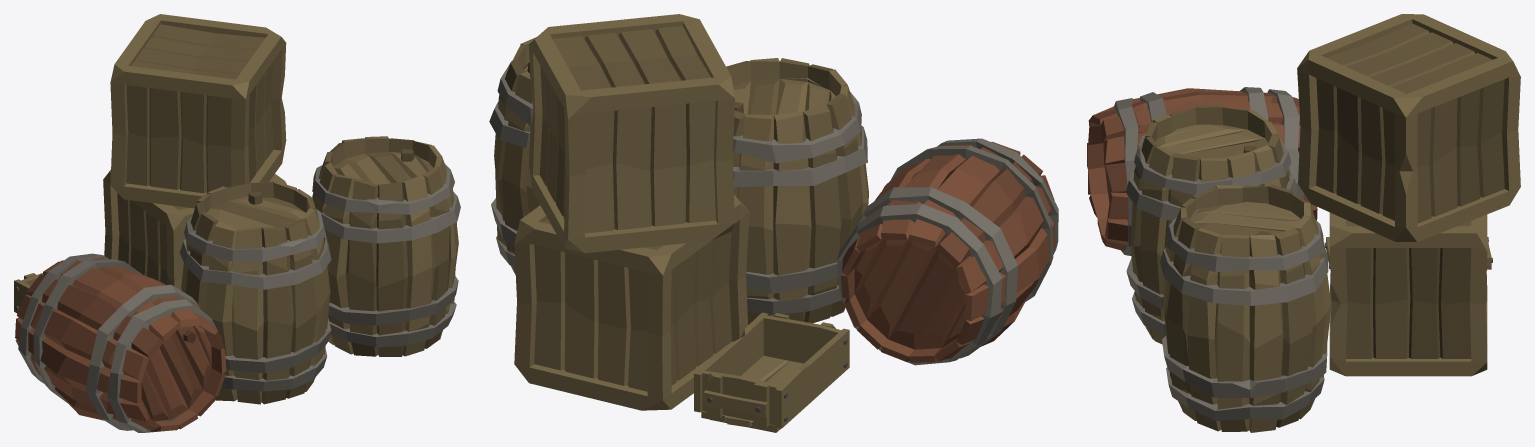
The model's file is Stack_4.fbx.
3 views of the same model, side by side, from view 1: azimuth 30°, elevation 25°; view 2: azimuth 150°, elevation 25°; view 3: azimuth 270°, elevation 25° (orthographic). The views are drawn at different scales.
Parts seen in each view (by area): view 1: Stack_4; view 2: Stack_4; view 3: Stack_4.
Boxes of the visible parts, x1,y1,x2,y2 form: Stack_4: (14, 14, 460, 432); Stack_4: (489, 14, 1058, 432); Stack_4: (1087, 14, 1520, 432).
Size of the model in its own units: 231 by 138 by 186.
